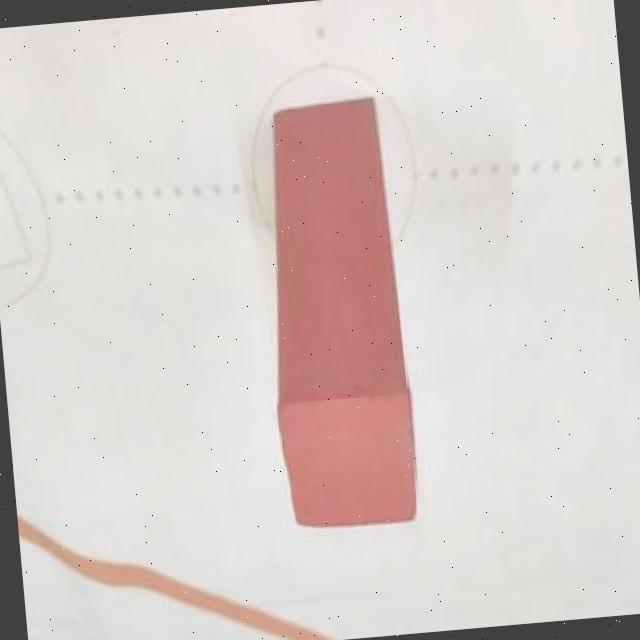redbox: (248, 90, 426, 534)
